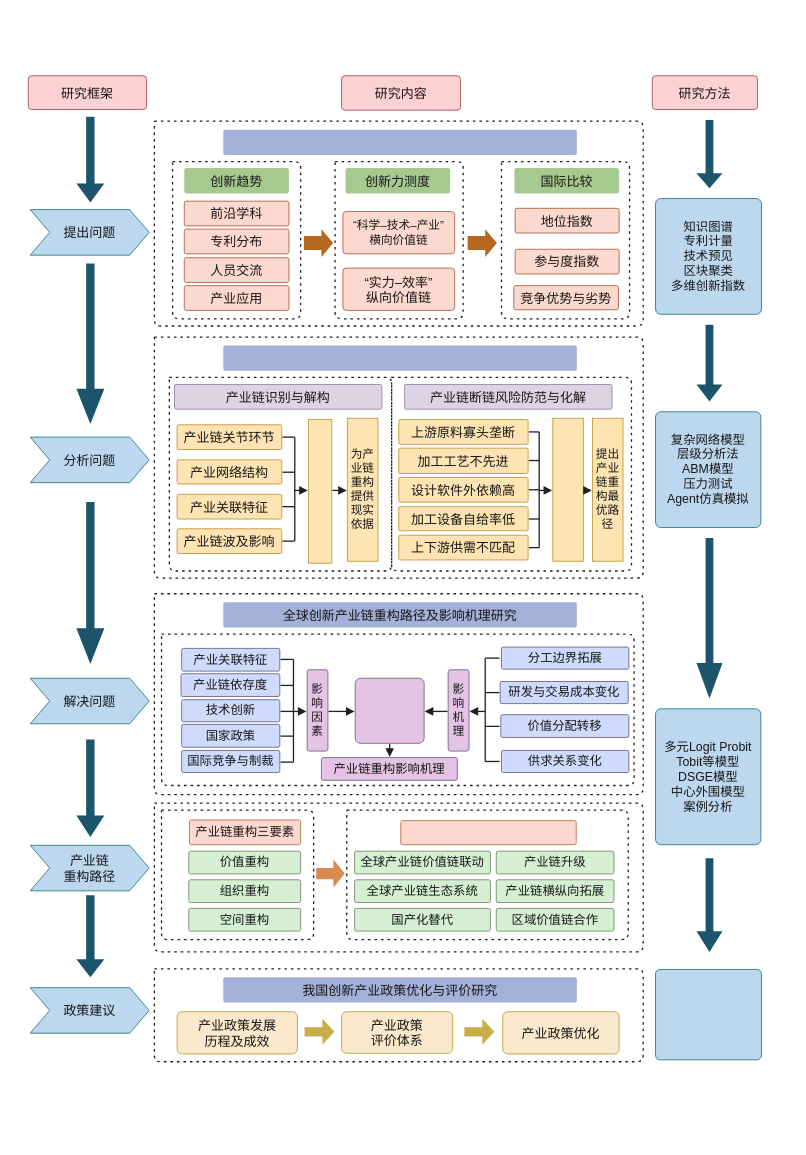
This 806x1155 diagram has some shape labels left out. Here are the shapes that lost their labels. From the top down, the box of each, then its label:
(223, 129, 577, 155): 全球创新趋势、创新力测度与国际比较研究
(223, 345, 577, 370): 全球创新产业链的识别、解构与风险防范研究
(308, 419, 332, 563): 产 业 链 结 构 特 征
(552, 417, 584, 561): 构 建 风 险 监 测 预 警 体 系
(354, 677, 424, 743): 价值链 +供应链 +空间链
(400, 820, 576, 845): 半导体产业链重构模式与路径
(655, 969, 762, 1060): SCP模型 SWOT分析 SPACE矩阵 PMC指数模型
